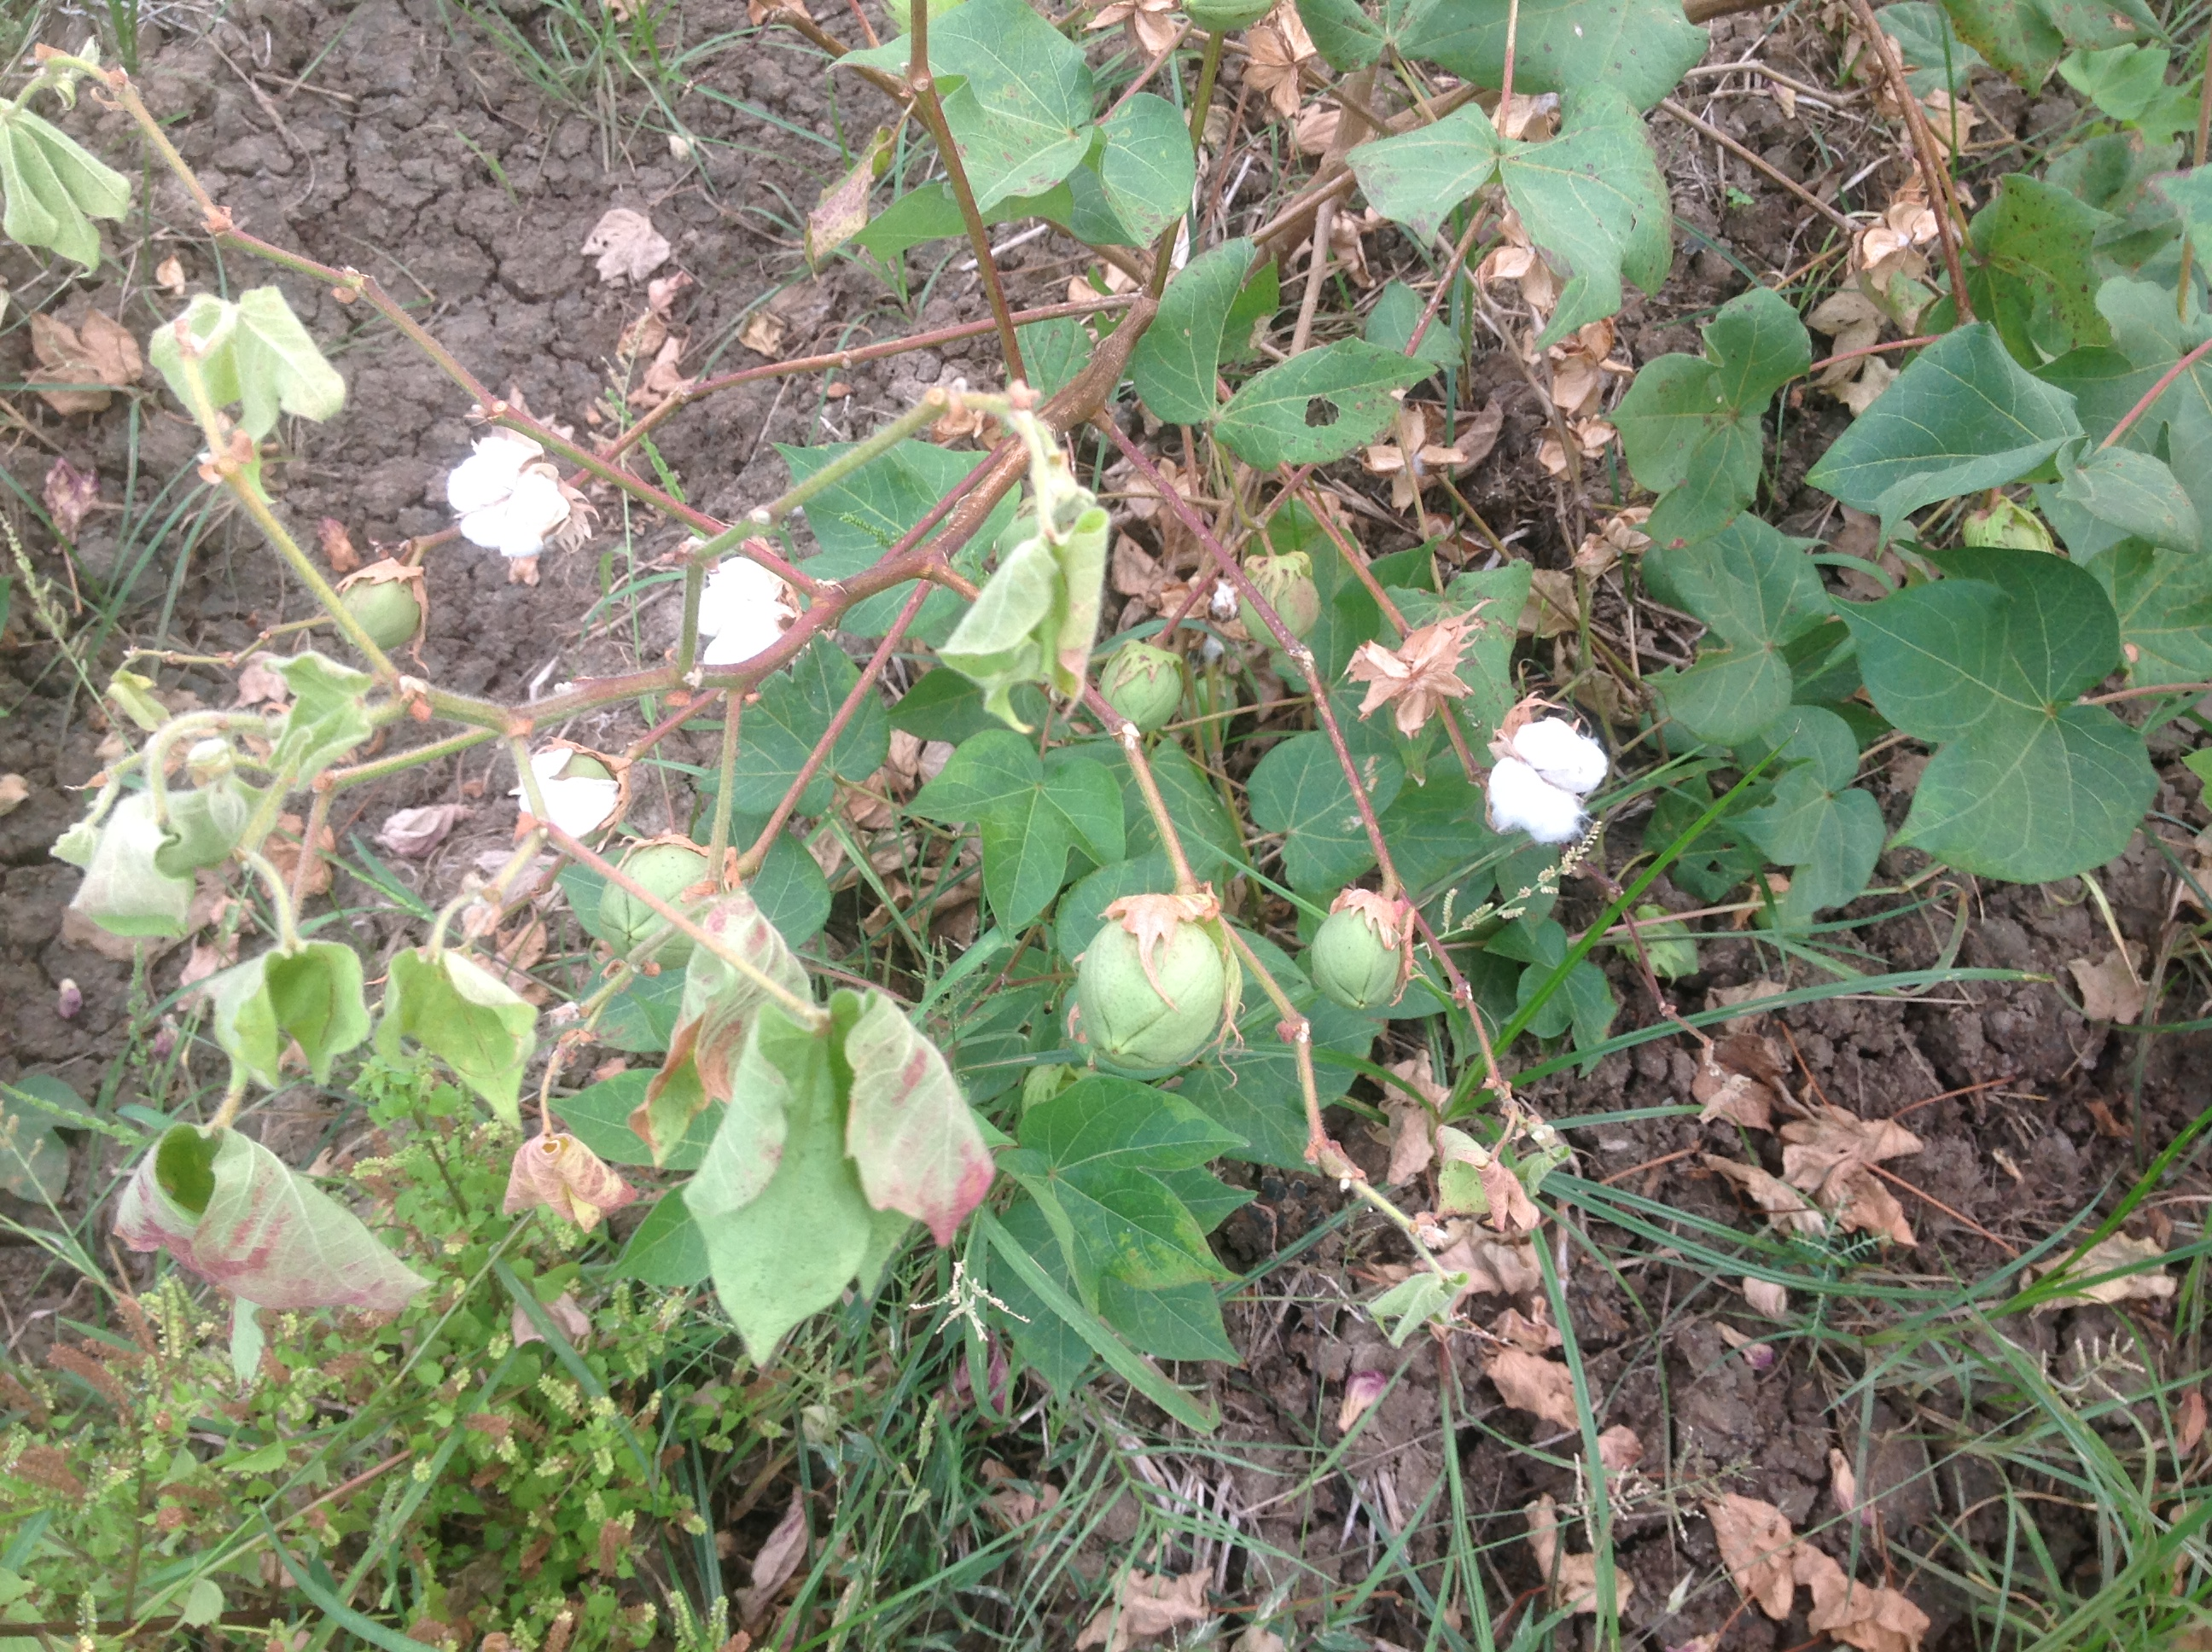cotton: (1478, 692, 1631, 866), (425, 416, 590, 567), (682, 545, 828, 694)
